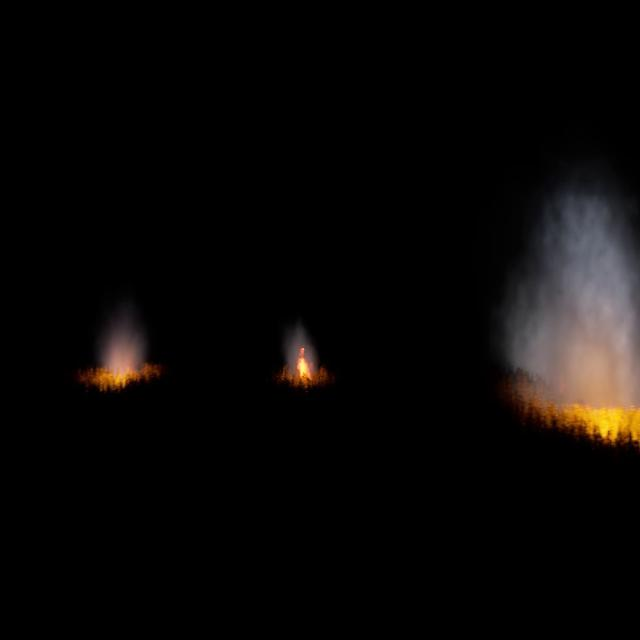fire: (514, 372, 640, 448), (297, 349, 311, 381)
smoke: (504, 181, 640, 408), (97, 319, 149, 374), (288, 328, 314, 372)
